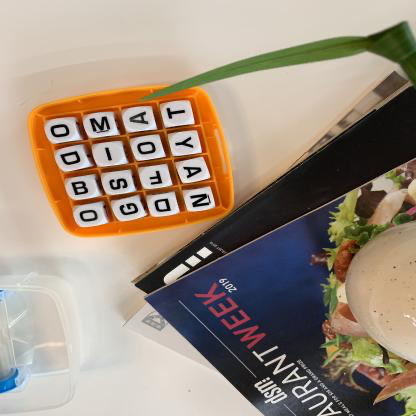a: (124, 109, 155, 132), (180, 160, 208, 183)
b: (67, 177, 98, 200)
d: (56, 148, 87, 170), (149, 195, 178, 217)
f: (141, 167, 171, 189)
g: (114, 200, 144, 221)
i: (95, 143, 125, 166)
m: (85, 114, 117, 138)
n: (186, 191, 215, 212)
o: (46, 119, 78, 144), (133, 137, 164, 160), (74, 206, 105, 228)
s: (103, 172, 134, 195)
t: (163, 102, 194, 126)
y: (172, 133, 201, 156)
